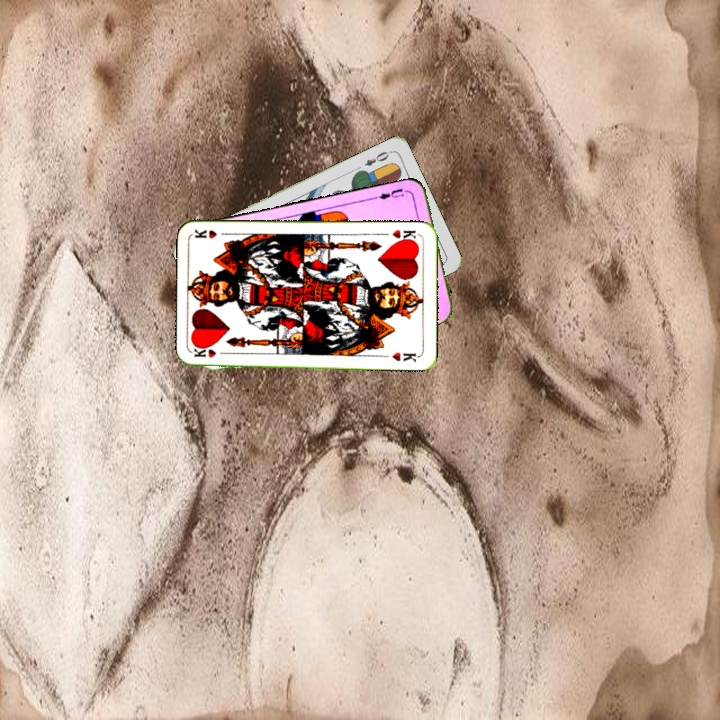EO: (360, 147, 392, 169)
EU: (372, 184, 406, 202)
HK: (191, 344, 232, 360), (388, 225, 421, 244)
